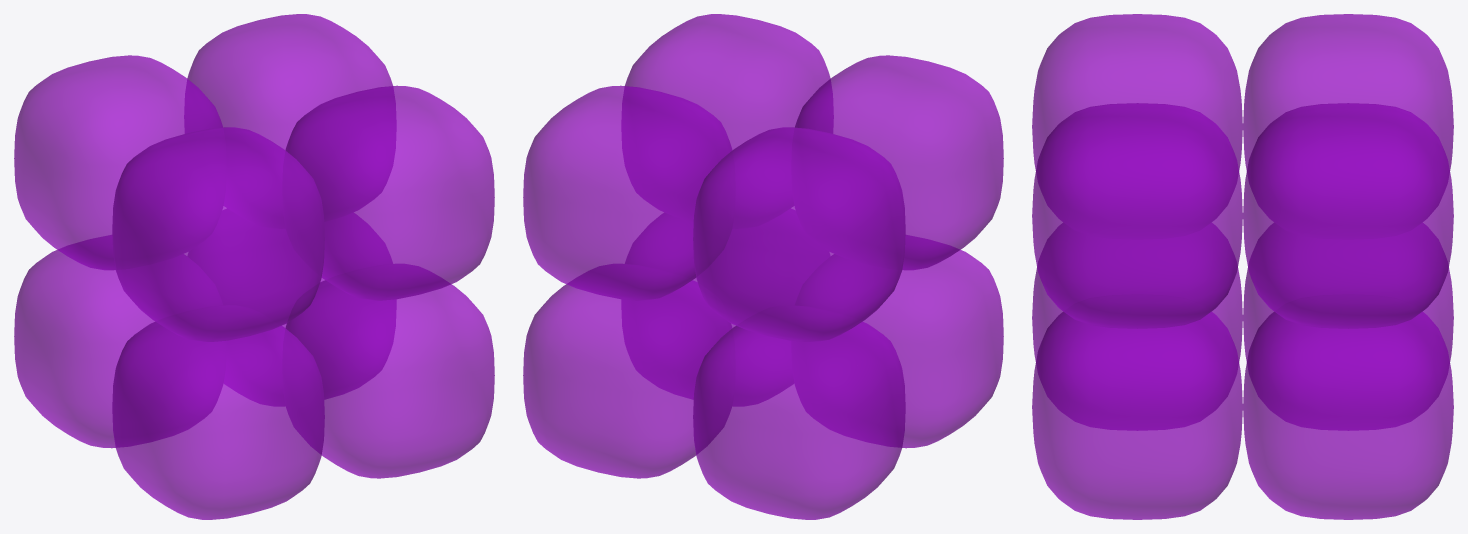
The model's file is br-m-bubble-quad-purple.fbx.
The picture shows the model from 3 angles, left to right: view 1: azimuth 30°, elevation 25°; view 2: azimuth 150°, elevation 25°; view 3: azimuth 270°, elevation 25°; orthographic projection. The views are drawn at different scales.
Parts seen in each view (by area): view 1: bubble8, bubble13, bubble, bubble9, bubble14, bubble10, bubble12, bubble11; view 2: bubble9, bubble12, bubble10, bubble8, bubble11, bubble, bubble13, bubble14; view 3: bubble13, bubble12, bubble14, bubble11, bubble8, bubble9, bubble10, bubble.
Part boxes in pixels (<box>): bubble8: <box>112,127,324,341</box>; bubble13: <box>283,85,494,300</box>; bubble: <box>112,305,324,519</box>; bubble9: <box>14,55,225,270</box>; bubble14: <box>283,264,494,478</box>; bubble10: <box>14,235,225,448</box>; bubble12: <box>184,14,395,228</box>; bubble11: <box>188,209,395,405</box>; bubble9: <box>693,127,905,341</box>; bubble12: <box>523,85,734,300</box>; bubble10: <box>693,305,905,519</box>; bubble8: <box>792,55,1003,270</box>; bubble11: <box>523,264,734,478</box>; bubble: <box>792,235,1003,448</box>; bubble13: <box>622,14,833,228</box>; bubble14: <box>622,209,829,405</box>; bubble13: <box>1032,103,1242,328</box>; bubble12: <box>1243,103,1453,328</box>; bubble14: <box>1032,295,1242,519</box>; bubble11: <box>1243,295,1453,519</box>; bubble8: <box>1032,14,1242,238</box>; bubble9: <box>1243,14,1453,238</box>; bubble10: <box>1243,223,1453,430</box>; bubble: <box>1032,223,1242,430</box>.
Size of the model in its own units: 1 by 1 by 1.
